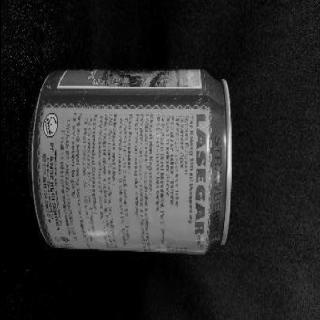alumunium_can: (27, 70, 231, 254)
